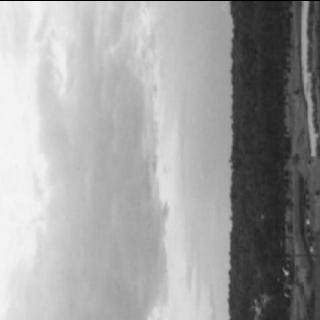Stratocumulus: (0, 0, 215, 320)
